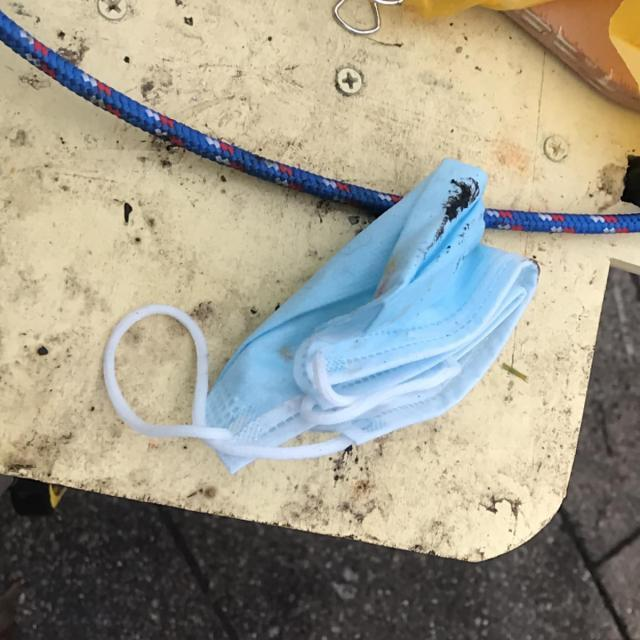Mask: (96, 152, 542, 478)
